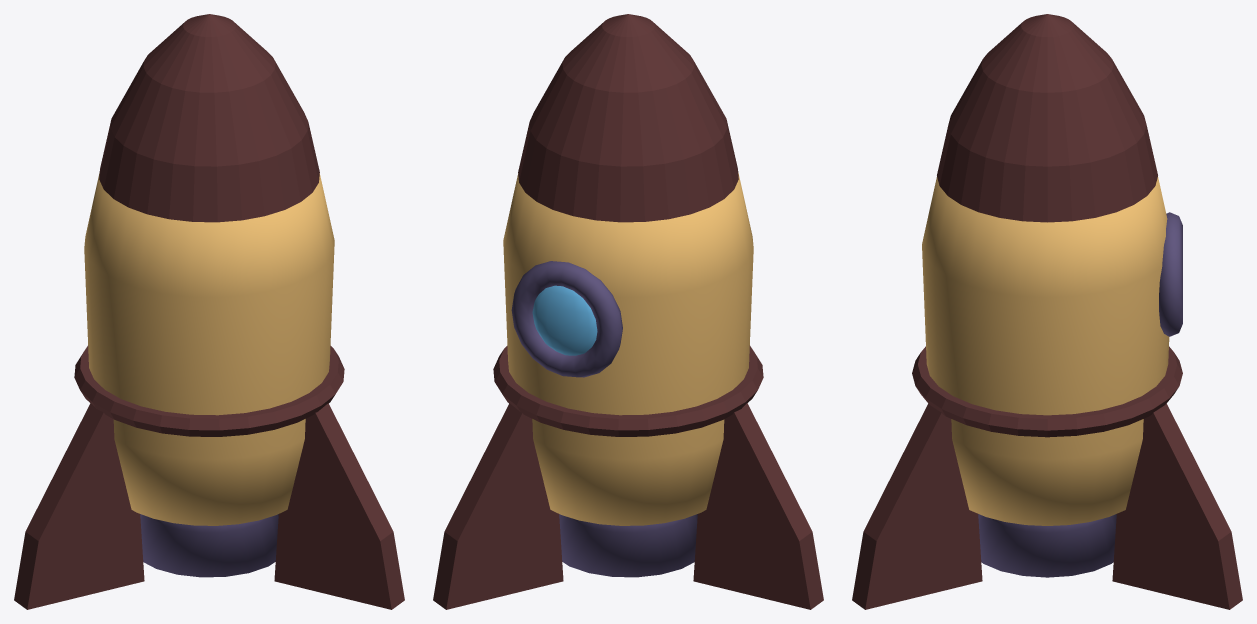
File: MessyMemoryRocket.obj
3 views of the same model, side by side, from view 1: azimuth 30°, elevation 25°; view 2: azimuth 150°, elevation 25°; view 3: azimuth 270°, elevation 25° (orthographic).
Visible parts, largest first — view 1: Nose, Body, Rim; view 2: Nose, Body, Rim, Window; view 3: Nose, Body, Rim.
Part boxes in pixels (bbox=[...]): Nose: bbox=[14, 14, 404, 609]; Body: bbox=[84, 173, 334, 525]; Rim: bbox=[140, 514, 278, 577]; Nose: bbox=[433, 14, 823, 609]; Body: bbox=[503, 173, 753, 525]; Rim: bbox=[511, 261, 697, 577]; Window: bbox=[532, 285, 597, 355]; Nose: bbox=[852, 14, 1242, 609]; Body: bbox=[922, 177, 1169, 525]; Rim: bbox=[978, 212, 1182, 577].
Size of the model in its own units: 1.07 by 1.82 by 1.18.
